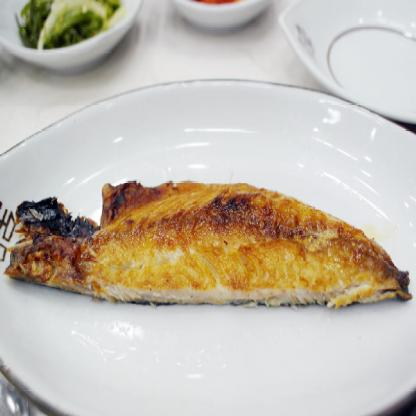Peixe: (0, 146, 416, 348)
